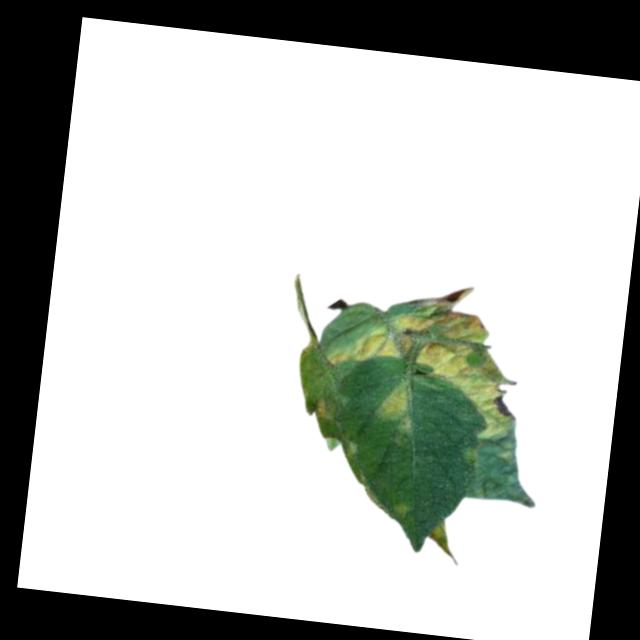Leaf_Mold: (408, 279, 528, 445), (326, 300, 433, 374), (372, 376, 418, 438), (423, 519, 468, 570), (309, 392, 335, 424)
